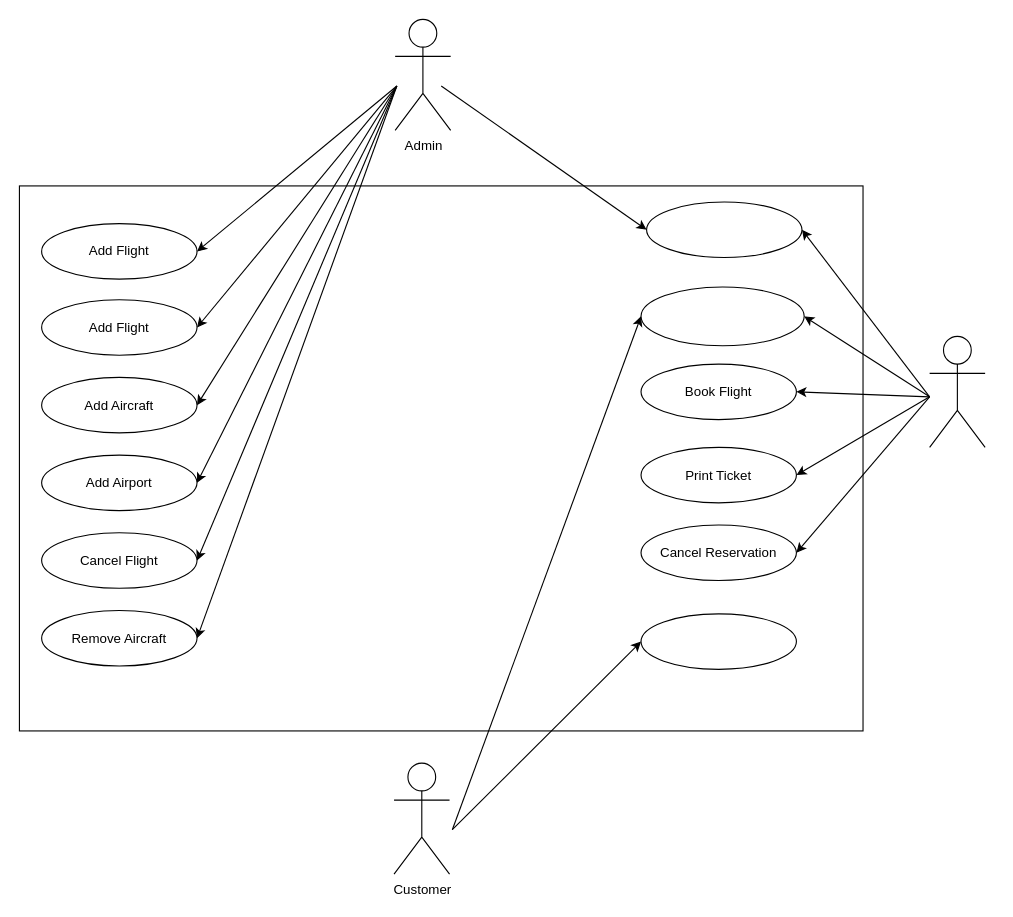
Some shapes in this 1013 by 917 pixel diagram are drawn without their labels. The shapes that lost their labels are listed below. From the top down, each one's centre as x and y in pixels, then its label:
the point at 723,229: Login
the point at 722,316: Search Flight
the point at 957,391: Travel Agent
the point at 718,641: Verify Booking
